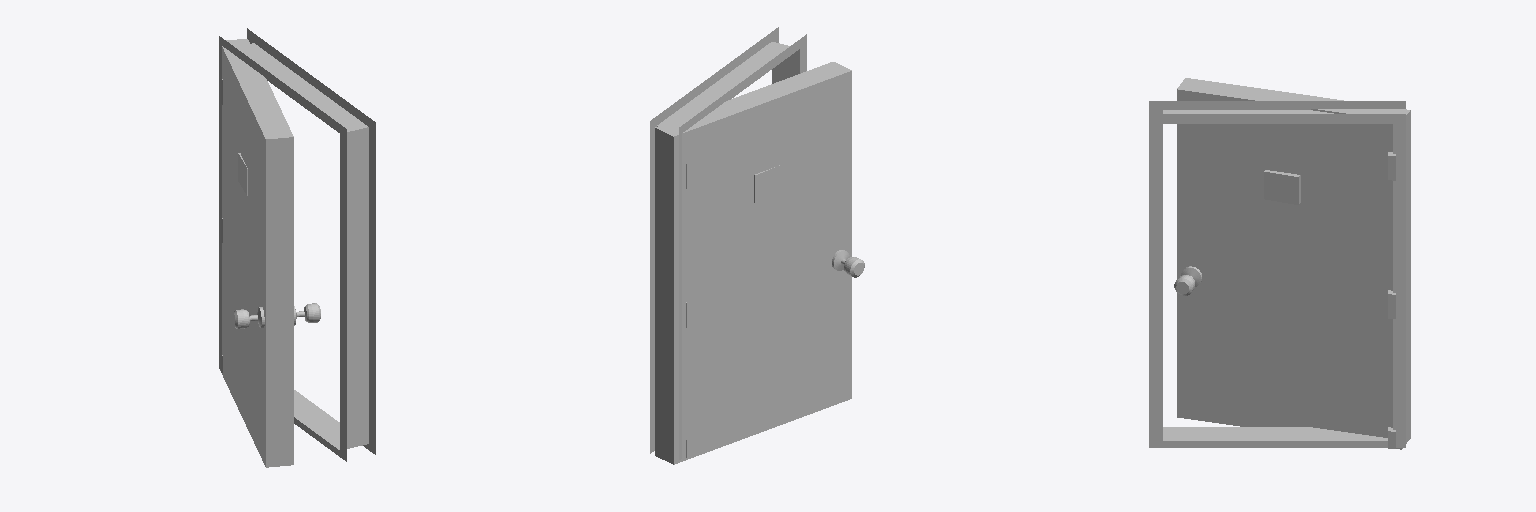
File: Door_1_Open9.obj
3 views of the same model, side by side, from view 1: azimuth 30°, elevation 25°; view 2: azimuth 150°, elevation 25°; view 3: azimuth 270°, elevation 25° (orthographic).
Visible parts, largest first — view 1: Door, Frame_Door; view 2: Door, Frame_Door; view 3: Door, Frame_Door.
Boxes of the visible parts, <box> form: Door: <box>220,39,320,467</box>; Frame_Door: <box>219,28,375,461</box>; Door: <box>655,62,864,464</box>; Frame_Door: <box>650,27,806,459</box>; Door: <box>1174,78,1410,449</box>; Frame_Door: <box>1149,101,1405,448</box>.
Bounding box in the file's own units: 0.4419 × 1.21 × 0.8558.